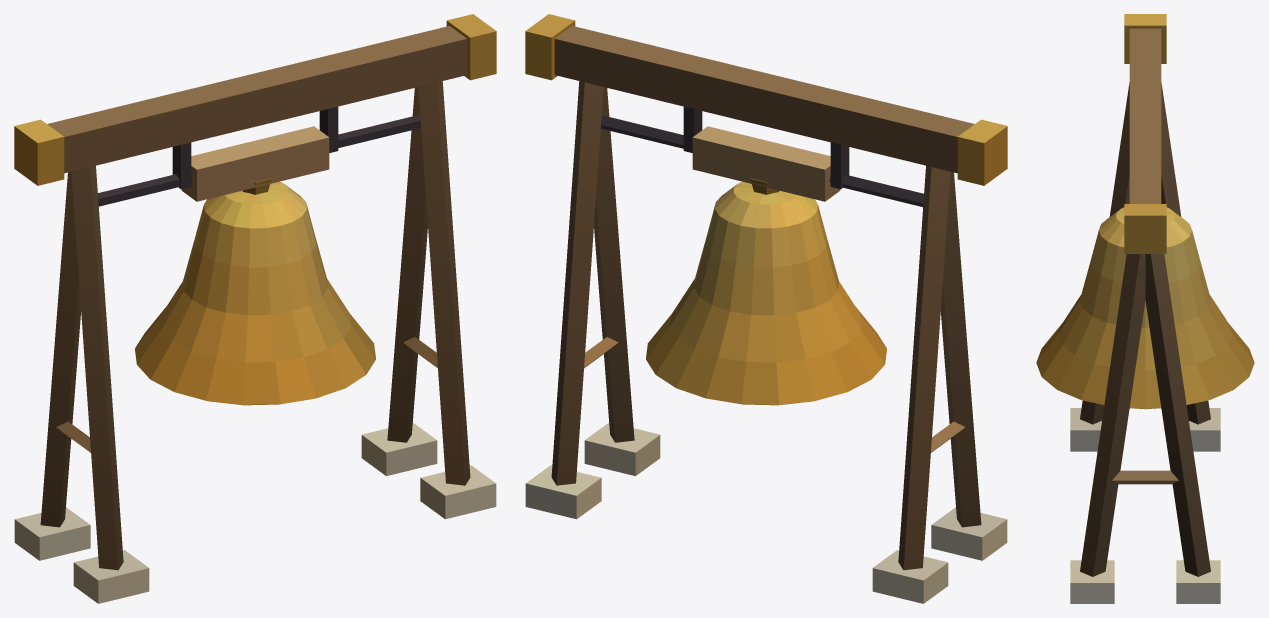
The model's file is sky_bell.glb.
3 renders of one model, left to right at view 1: azimuth 30°, elevation 25°; view 2: azimuth 150°, elevation 25°; view 3: azimuth 270°, elevation 25°, orthographic. The views are drawn at different scales.
Parts seen in each view (by area): view 1: yoke, bell_body; view 2: yoke, bell_body; view 3: yoke, bell_body.
Boxes of the visible parts, box(x1,y1,x2,y2) form: yoke: box(14, 14, 496, 603); bell_body: box(135, 126, 375, 405); yoke: box(525, 14, 1007, 603); bell_body: box(646, 126, 886, 405); yoke: box(1070, 14, 1220, 603); bell_body: box(1036, 207, 1254, 409).
Size of the model in its own units: 4.5 by 4.18 by 2.06.
